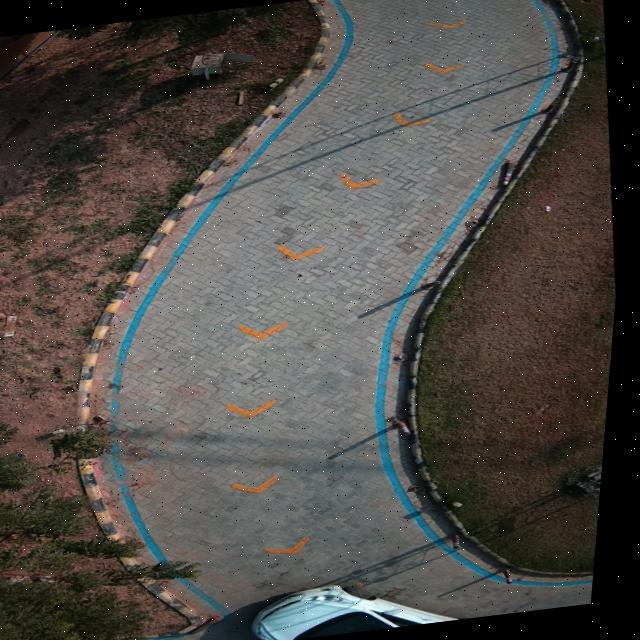car: (261, 583, 467, 640)
